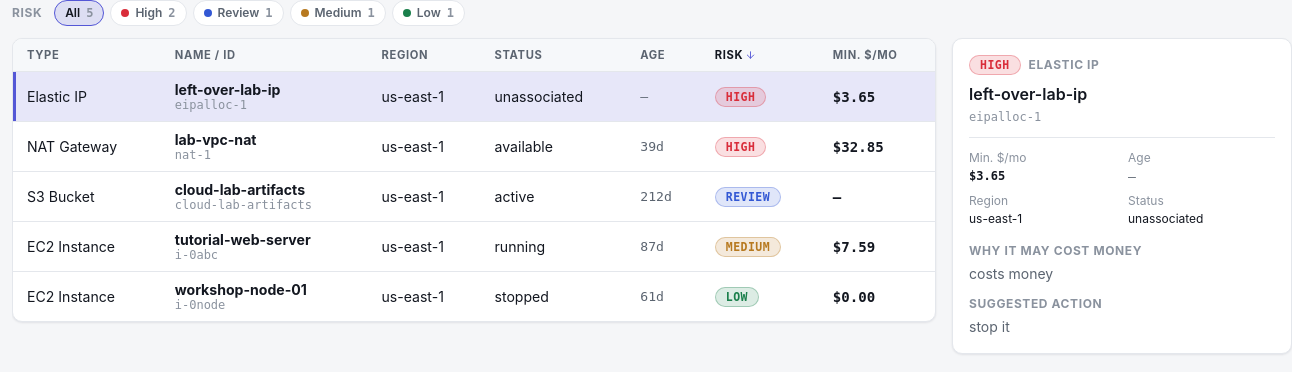
Test: ResourceTable sort and risk filter › moves with the arrow keys in the order shown, not the order given
Click the button "Min. $/mo" at coordinates (865, 55), box x1=833 y1=48 x2=898 y2=62
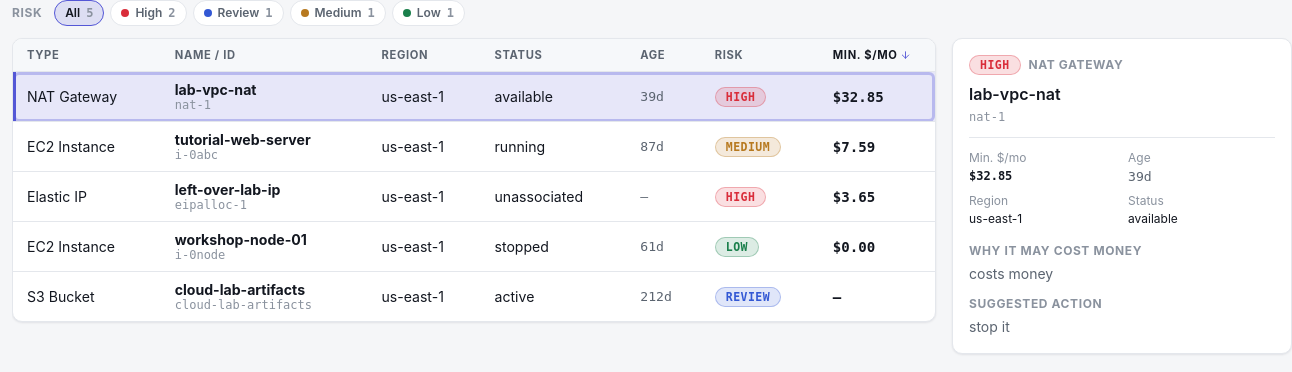
Press Arrowdown
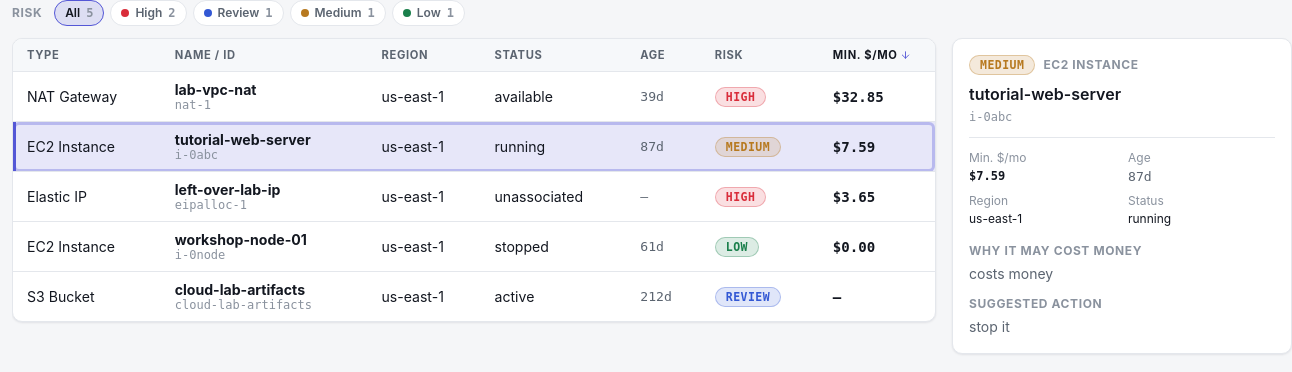
Check: the heading "tutorial-web-server" is shown, box x1=969 y1=84 x2=1121 y2=104
